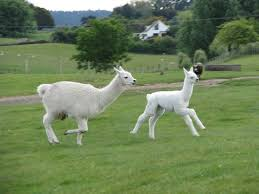alpaca: (36, 65, 137, 144), (130, 66, 206, 140)
